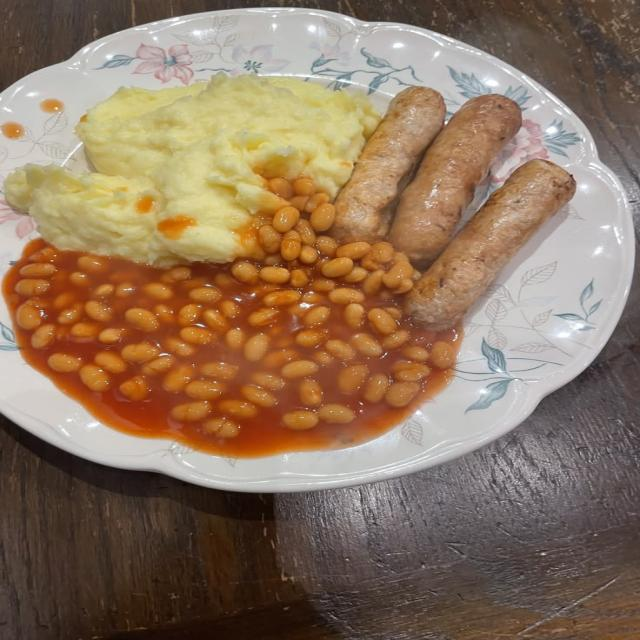beans: (338, 365, 368, 394), (367, 308, 399, 335), (385, 382, 419, 407), (383, 261, 413, 289), (125, 308, 159, 332), (163, 365, 193, 392), (80, 365, 110, 392), (240, 385, 276, 407), (171, 402, 210, 422), (218, 399, 258, 418), (121, 342, 159, 362), (309, 203, 335, 232), (119, 376, 149, 401), (318, 404, 355, 424), (393, 361, 430, 381), (364, 374, 389, 403), (94, 351, 126, 373), (185, 380, 222, 399), (262, 289, 301, 307), (273, 206, 299, 233), (16, 303, 42, 330), (244, 334, 269, 362), (282, 410, 318, 429), (262, 349, 298, 368), (203, 418, 239, 437), (352, 334, 383, 356), (141, 355, 175, 375), (281, 361, 318, 379), (180, 325, 215, 344), (200, 363, 239, 380), (431, 342, 455, 369), (47, 353, 81, 372), (280, 230, 301, 260), (259, 226, 282, 253), (336, 242, 370, 260), (14, 279, 50, 296), (321, 258, 353, 277), (325, 340, 355, 360), (165, 336, 195, 356), (362, 269, 385, 295), (252, 372, 285, 390), (231, 261, 258, 283), (328, 288, 365, 304), (85, 301, 113, 322), (31, 324, 55, 348), (247, 308, 279, 326), (294, 329, 326, 347), (203, 310, 229, 332), (294, 219, 316, 245), (300, 380, 322, 406), (69, 322, 99, 341), (57, 303, 84, 324), (269, 178, 294, 200), (189, 287, 221, 304), (303, 306, 330, 326), (20, 263, 56, 278), (143, 282, 173, 300), (382, 330, 409, 350), (344, 303, 365, 328), (162, 266, 192, 283), (371, 242, 395, 263), (304, 193, 329, 213), (316, 235, 338, 257), (260, 267, 290, 283), (77, 256, 105, 272), (98, 328, 126, 344), (28, 247, 57, 262), (402, 346, 429, 362), (225, 329, 246, 349), (54, 291, 76, 310), (344, 267, 368, 283), (360, 251, 379, 271), (293, 179, 315, 196), (219, 300, 239, 318), (298, 246, 318, 264), (290, 269, 308, 288), (154, 305, 173, 322), (92, 284, 115, 298), (312, 278, 335, 292), (393, 278, 413, 294), (115, 282, 135, 298), (301, 291, 325, 304), (290, 196, 309, 212), (69, 272, 88, 287), (214, 273, 232, 288), (314, 351, 333, 365), (263, 253, 283, 266), (384, 306, 402, 319)
mashed potatoes: (7, 74, 377, 265)
sausage: (404, 159, 575, 330), (389, 94, 519, 269), (332, 87, 445, 241)
